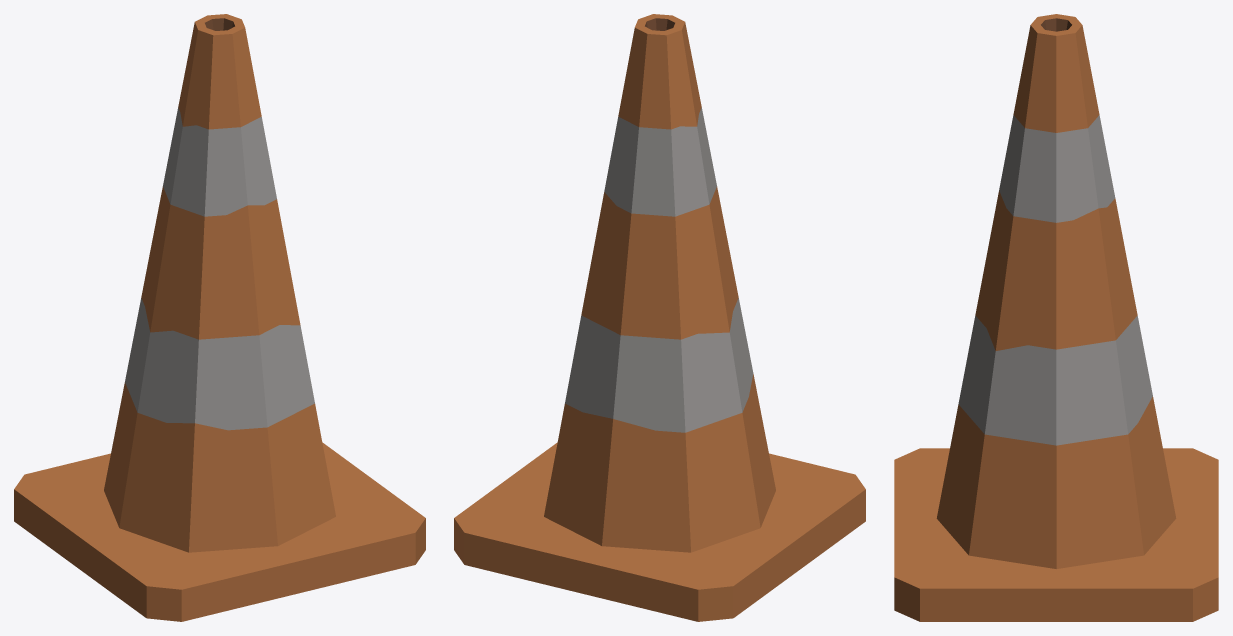
The model's file is SM_Prop_Cone_01_616.obj.
3 renders of one model, left to right at view 1: azimuth 30°, elevation 25°; view 2: azimuth 150°, elevation 25°; view 3: azimuth 270°, elevation 25°, orthographic. The views are drawn at different scales.
Parts seen in each view (by area): view 1: SM_Prop_Cone_01_0; view 2: SM_Prop_Cone_01_0; view 3: SM_Prop_Cone_01_0.
Part boxes in pixels (x1,y1,x2,y2): SM_Prop_Cone_01_0: (14, 14, 425, 621); SM_Prop_Cone_01_0: (454, 14, 865, 621); SM_Prop_Cone_01_0: (894, 14, 1218, 621).
Size of the model in its own units: 0.3576 by 0.6254 by 0.349.
1 material, 1 textured.
